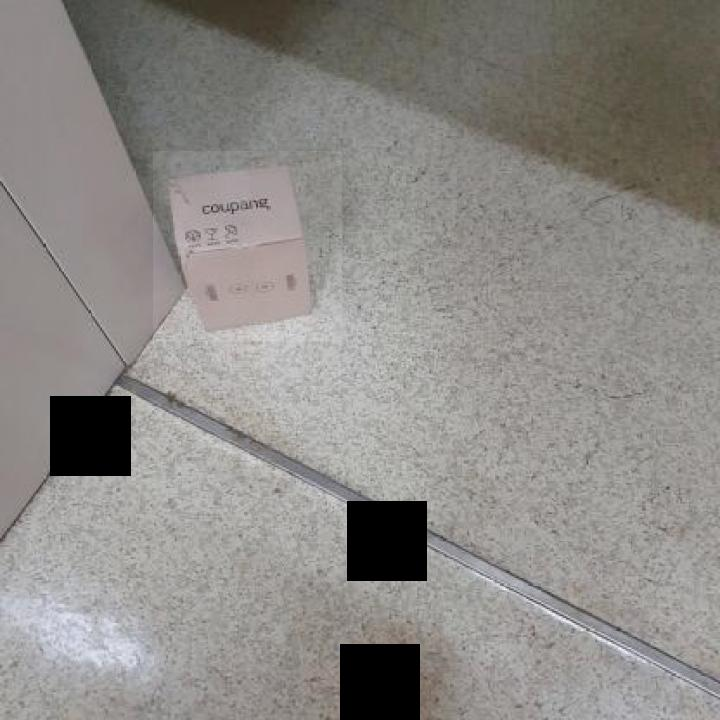box: (153, 152, 342, 344)
